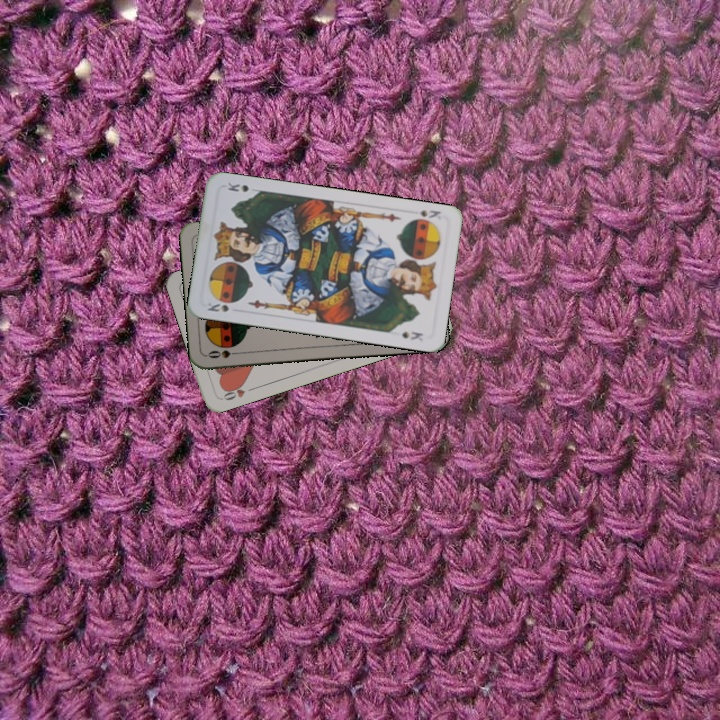HO: (218, 380, 257, 403)
SK: (203, 297, 231, 315), (415, 206, 443, 222)
SO: (204, 346, 244, 361)
